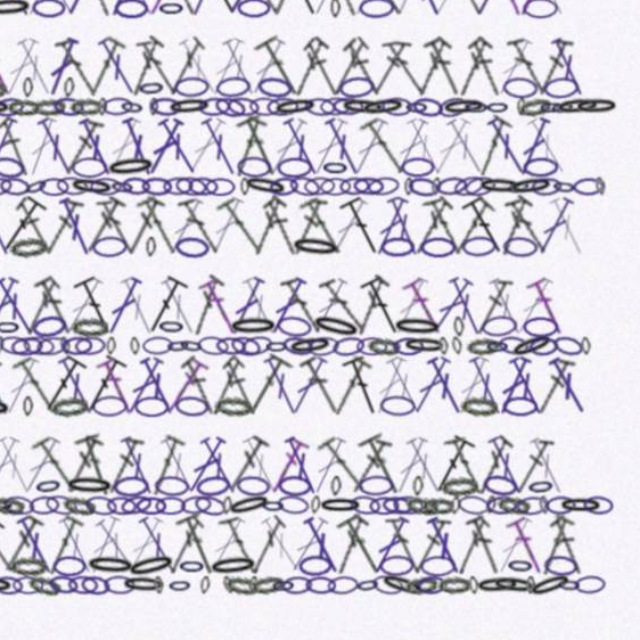chain: (336, 347, 384, 375), (174, 557, 222, 585), (511, 363, 554, 392), (527, 574, 570, 602), (30, 419, 77, 443), (397, 575, 439, 601), (157, 209, 203, 232), (263, 505, 305, 530), (319, 280, 365, 302), (247, 560, 293, 582), (49, 70, 95, 91), (277, 226, 319, 249), (139, 560, 185, 581), (409, 351, 454, 371), (511, 227, 552, 248), (317, 367, 358, 388), (265, 351, 310, 370), (121, 491, 166, 510), (304, 158, 345, 178), (381, 158, 422, 178), (125, 228, 166, 248), (496, 578, 537, 598), (35, 158, 76, 177), (211, 158, 252, 177), (552, 158, 593, 177), (37, 578, 78, 597), (72, 280, 107, 302), (108, 420, 143, 442), (363, 159, 404, 177), (452, 159, 493, 177), (92, 349, 124, 372), (488, 489, 520, 512), (307, 350, 340, 372), (482, 579, 522, 597), (290, 140, 322, 162), (56, 210, 88, 232), (236, 490, 268, 512), (88, 577, 120, 599), (487, 350, 520, 371), (462, 226, 492, 249), (519, 157, 550, 179), (234, 507, 265, 529), (37, 141, 71, 161), (569, 159, 609, 176), (24, 229, 64, 246), (484, 229, 524, 246), (418, 369, 458, 386), (451, 491, 485, 511), (39, 509, 79, 526), (171, 579, 211, 596), (254, 140, 286, 161), (362, 140, 394, 161), (252, 157, 282, 179), (448, 157, 478, 179), (266, 367, 296, 389), (549, 367, 579, 389), (284, 577, 315, 598), (506, 141, 538, 161), (542, 141, 574, 161), (506, 281, 538, 301), (20, 351, 52, 371), (164, 491, 196, 511), (200, 491, 232, 511), (344, 510, 384, 526), (555, 510, 595, 526), (104, 507, 134, 528), (253, 421, 286, 440), (469, 421, 502, 440), (20, 71, 51, 91), (218, 281, 249, 301), (218, 421, 249, 441), (272, 491, 303, 511), (119, 508, 150, 528), (420, 508, 451, 528), (542, 561, 573, 581), (262, 578, 293, 598), (419, 578, 450, 598), (29, 157, 58, 178), (318, 227, 347, 248), (472, 227, 501, 248), (276, 367, 305, 388), (170, 507, 199, 528), (391, 577, 420, 598), (398, 421, 430, 440), (334, 368, 364, 388), (356, 368, 386, 388), (139, 508, 169, 528), (84, 226, 110, 249), (127, 352, 160, 370), (73, 562, 106, 580), (380, 71, 411, 90), (218, 141, 249, 160), (146, 281, 177, 300), (470, 281, 501, 300), (146, 421, 177, 440), (380, 491, 411, 510), (398, 561, 429, 580), (58, 158, 87, 178), (426, 158, 455, 178), (48, 228, 77, 248), (422, 228, 451, 248), (96, 368, 125, 388), (312, 368, 341, 388), (67, 508, 96, 528), (273, 211, 303, 230), (387, 228, 417, 247), (63, 368, 93, 387), (309, 491, 339, 510), (466, 508, 496, 527), (501, 508, 531, 527), (327, 561, 357, 580), (94, 490, 121, 511), (135, 578, 163, 598), (524, 72, 555, 90), (128, 212, 159, 230), (308, 212, 339, 230), (524, 212, 555, 230), (434, 282, 465, 300), (524, 352, 555, 370), (506, 422, 537, 440), (434, 562, 465, 580), (264, 158, 293, 177), (114, 228, 143, 247), (218, 228, 247, 247), (447, 228, 476, 247), (29, 508, 58, 527), (308, 508, 337, 527), (93, 72, 123, 90), (165, 72, 195, 90), (273, 72, 303, 90), (93, 159, 123, 177), (417, 212, 447, 230), (399, 282, 429, 300), (387, 369, 417, 387), (474, 369, 504, 387), (183, 422, 213, 440), (57, 509, 87, 527), (111, 562, 141, 580), (111, 158, 139, 177), (85, 368, 113, 387), (238, 368, 266, 387), (502, 368, 530, 387), (223, 508, 251, 527), (372, 508, 400, 527), (107, 578, 135, 597), (74, 369, 103, 387), (185, 141, 211, 161), (527, 491, 553, 511), (301, 228, 328, 247), (332, 159, 360, 177), (64, 229, 92, 247), (531, 229, 559, 247), (254, 369, 282, 387), (158, 509, 186, 527), (400, 509, 428, 527), (518, 509, 546, 527), (58, 579, 86, 597), (312, 579, 340, 597), (352, 579, 380, 597), (508, 228, 533, 248), (509, 561, 535, 580), (126, 159, 155, 176), (449, 579, 478, 596), (30, 369, 57, 387), (529, 369, 556, 387), (154, 159, 182, 176), (239, 159, 267, 176), (299, 159, 327, 176), (130, 369, 158, 386), (90, 509, 118, 526), (124, 579, 152, 596), (156, 579, 184, 596), (569, 579, 597, 596), (203, 351, 228, 370), (71, 160, 100, 176), (435, 510, 464, 526), (197, 159, 224, 176), (284, 159, 311, 176), (346, 159, 373, 176), (357, 159, 384, 176), (400, 159, 427, 176), (171, 229, 198, 246), (189, 229, 216, 246), (208, 229, 235, 246), (230, 229, 257, 246), (332, 229, 359, 246), (363, 229, 390, 246), (375, 229, 402, 246), (119, 369, 146, 386), (190, 369, 217, 386), (410, 509, 437, 526), (492, 509, 519, 526), (544, 509, 571, 526), (577, 509, 604, 526), (431, 579, 458, 596), (221, 368, 245, 387), (376, 578, 400, 597), (203, 72, 228, 90), (347, 212, 372, 230), (59, 352, 84, 370), (221, 562, 246, 580), (144, 230, 172, 246), (169, 159, 193, 177), (547, 159, 571, 177), (99, 230, 126, 246), (245, 230, 272, 246), (346, 230, 373, 246), (568, 230, 595, 246), (378, 370, 405, 386), (410, 370, 437, 386), (184, 510, 211, 526), (201, 510, 228, 526), (389, 510, 416, 526), (30, 580, 57, 596), (76, 580, 103, 596), (333, 580, 360, 596), (161, 229, 184, 247), (549, 229, 572, 247), (210, 369, 233, 386), (554, 579, 576, 596), (420, 160, 442, 176), (473, 160, 495, 176), (491, 160, 513, 176), (538, 160, 560, 176), (297, 370, 319, 386), (491, 370, 513, 386), (294, 510, 316, 526), (212, 580, 234, 596), (303, 580, 325, 596), (260, 579, 272, 596), (120, 142, 131, 160), (587, 229, 598, 246), (117, 369, 128, 386), (461, 369, 472, 386), (463, 352, 473, 370), (355, 492, 365, 510), (427, 492, 437, 510), (59, 369, 69, 386), (337, 509, 347, 526), (491, 509, 501, 526), (538, 509, 548, 526), (355, 72, 364, 90), (85, 142, 94, 160), (193, 282, 202, 300), (85, 422, 94, 440), (443, 230, 453, 246), (460, 510, 470, 526), (240, 580, 250, 596), (476, 580, 486, 596), (158, 370, 167, 386), (179, 370, 188, 386), (450, 370, 459, 386), (575, 370, 584, 386), (260, 510, 269, 526), (200, 580, 209, 596), (283, 580, 292, 596), (151, 160, 159, 176), (196, 160, 204, 176), (519, 160, 527, 176), (276, 230, 284, 246), (420, 230, 428, 246), (527, 580, 535, 596)
double: (377, 34, 426, 92), (60, 244, 108, 301), (288, 104, 335, 162), (276, 384, 323, 442), (360, 524, 407, 582), (24, 524, 71, 581), (7, 314, 53, 372), (379, 453, 424, 512), (97, 384, 143, 441), (272, 173, 316, 232), (342, 455, 389, 510), (253, 245, 299, 301), (235, 34, 280, 91), (469, 244, 514, 301), (188, 314, 232, 372), (440, 454, 484, 512), (379, 175, 424, 231), (457, 245, 502, 301), (91, 455, 136, 511), (134, 384, 178, 441), (308, 34, 351, 92), (362, 244, 405, 302), (128, 314, 171, 372), (380, 314, 423, 372), (219, 523, 261, 582), (74, 385, 118, 441), (439, 316, 484, 370), (145, 526, 190, 580), (206, 385, 250, 440), (290, 525, 334, 580), (326, 245, 369, 301), (350, 385, 393, 441), (135, 104, 177, 161), (260, 35, 303, 90), (218, 105, 261, 160), (200, 175, 243, 230), (524, 175, 567, 230), (260, 455, 303, 510), (314, 525, 357, 580), (183, 244, 224, 301), (435, 244, 476, 301), (99, 524, 140, 581), (364, 384, 404, 442), (130, 454, 170, 512), (93, 35, 135, 90), (147, 105, 189, 160), (225, 175, 267, 230), (297, 175, 339, 230), (453, 175, 495, 230), (489, 175, 531, 230), (135, 245, 177, 300), (57, 315, 99, 370), (117, 315, 159, 370), (543, 385, 585, 440), (225, 455, 267, 510), (63, 525, 105, 580), (183, 525, 225, 580), (45, 35, 86, 91), (477, 35, 518, 91), (189, 175, 230, 231), (441, 175, 482, 231), (351, 245, 392, 301), (21, 315, 62, 371), (297, 315, 338, 371), (417, 315, 458, 371), (171, 385, 212, 441), (237, 455, 278, 511), (297, 455, 338, 511), (171, 525, 212, 581), (243, 525, 284, 581), (327, 525, 368, 581), (454, 454, 494, 511), (256, 524, 296, 581), (21, 35, 62, 90), (441, 35, 482, 90), (513, 315, 554, 370), (327, 385, 368, 440), (423, 385, 464, 440), (81, 455, 122, 510), (118, 35, 158, 91), (190, 35, 230, 91), (334, 35, 374, 91), (526, 35, 566, 91), (40, 105, 80, 161), (76, 105, 116, 161), (280, 105, 320, 161), (496, 105, 536, 161), (94, 175, 134, 231), (238, 175, 278, 231), (310, 175, 350, 231), (334, 175, 374, 231), (346, 175, 386, 231), (370, 175, 410, 231), (418, 175, 458, 231), (28, 245, 68, 301), (208, 245, 248, 301), (532, 245, 572, 301), (94, 315, 134, 371), (202, 315, 242, 371), (238, 315, 278, 371), (334, 315, 374, 371), (112, 385, 152, 441), (316, 385, 356, 441), (400, 385, 440, 441), (436, 385, 476, 441), (46, 455, 86, 511), (274, 455, 314, 511), (418, 455, 458, 511), (76, 525, 116, 581), (388, 525, 428, 581), (496, 525, 536, 581), (345, 316, 387, 369), (478, 174, 517, 231), (190, 454, 229, 511), (532, 524, 571, 581), (58, 35, 97, 91), (166, 35, 205, 91), (370, 35, 409, 91), (64, 105, 103, 161), (256, 105, 295, 161), (436, 105, 475, 161), (130, 175, 169, 231), (154, 175, 193, 231), (406, 175, 445, 231), (172, 245, 211, 301), (544, 245, 583, 301), (46, 315, 85, 371), (154, 315, 193, 371), (262, 315, 301, 371), (274, 315, 313, 371), (406, 315, 445, 371), (490, 315, 529, 371), (526, 315, 565, 371), (64, 385, 103, 441), (148, 385, 187, 441), (184, 385, 223, 441), (508, 385, 547, 441), (58, 455, 97, 511), (118, 455, 157, 511), (202, 455, 241, 511), (334, 455, 373, 511), (490, 455, 529, 511), (526, 455, 565, 511), (112, 525, 151, 581), (436, 525, 475, 581), (508, 525, 547, 581), (423, 246, 464, 299), (263, 174, 301, 231), (370, 456, 410, 510), (83, 35, 121, 91), (227, 35, 265, 91), (419, 35, 457, 91), (491, 35, 529, 91), (515, 35, 553, 91), (245, 105, 283, 161), (545, 105, 583, 161), (11, 175, 49, 231), (41, 245, 79, 301), (245, 245, 283, 301), (389, 245, 427, 301), (167, 315, 205, 371), (455, 315, 493, 371), (293, 385, 331, 441), (461, 385, 499, 441), (473, 385, 511, 441), (497, 385, 535, 441), (167, 455, 205, 511), (311, 455, 349, 511), (407, 455, 445, 511), (400, 106, 440, 159), (40, 526, 80, 579), (364, 106, 403, 160), (118, 176, 157, 230), (508, 246, 547, 300), (478, 456, 517, 510), (299, 35, 336, 91), (407, 35, 444, 91), (29, 105, 66, 161), (23, 175, 60, 231), (47, 175, 84, 231), (515, 175, 552, 231), (113, 245, 150, 301), (401, 245, 438, 301), (41, 385, 78, 441), (389, 385, 426, 441), (11, 455, 48, 511), (473, 525, 510, 581), (274, 36, 313, 89), (454, 36, 493, 89), (184, 106, 223, 159), (76, 246, 115, 299), (113, 106, 151, 160), (317, 106, 355, 160), (389, 106, 427, 160), (425, 106, 463, 160), (461, 106, 499, 160), (101, 246, 139, 300), (221, 246, 259, 300), (311, 316, 349, 370), (29, 386, 67, 440), (533, 386, 571, 440), (11, 35, 48, 90), (281, 245, 318, 300), (156, 35, 192, 91), (102, 105, 138, 161), (168, 175, 204, 231), (138, 525, 174, 581), (209, 106, 247, 159), (353, 106, 391, 159), (329, 106, 366, 160), (149, 246, 186, 300), (83, 316, 120, 370), (515, 456, 552, 510), (209, 526, 246, 580), (281, 526, 318, 580), (425, 526, 462, 580), (174, 105, 210, 160), (510, 105, 546, 160), (294, 245, 330, 300), (498, 245, 534, 300), (372, 315, 408, 370), (222, 385, 258, 440), (24, 455, 60, 510), (156, 455, 192, 510), (354, 525, 390, 580), (84, 175, 119, 231), (480, 316, 516, 370), (246, 386, 282, 440), (258, 386, 294, 440), (132, 35, 167, 90), (348, 35, 383, 90), (474, 105, 509, 160), (534, 105, 569, 160), (228, 315, 263, 370), (546, 525, 581, 580), (462, 526, 497, 580), (205, 35, 239, 90), (61, 175, 95, 230), (319, 245, 353, 300), (403, 525, 437, 580)
noise: (16, 93, 43, 120), (0, 547, 21, 568)
